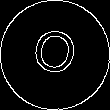O_S: (29, 26, 81, 84)
